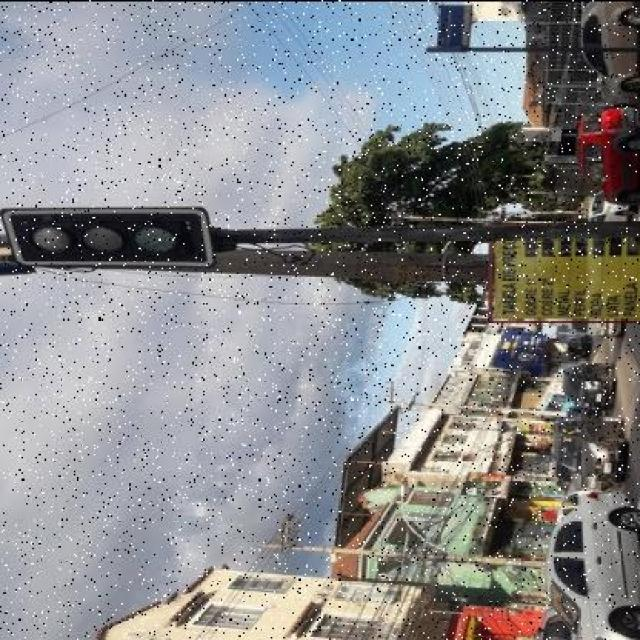traffic-light: (2, 190, 229, 291)
